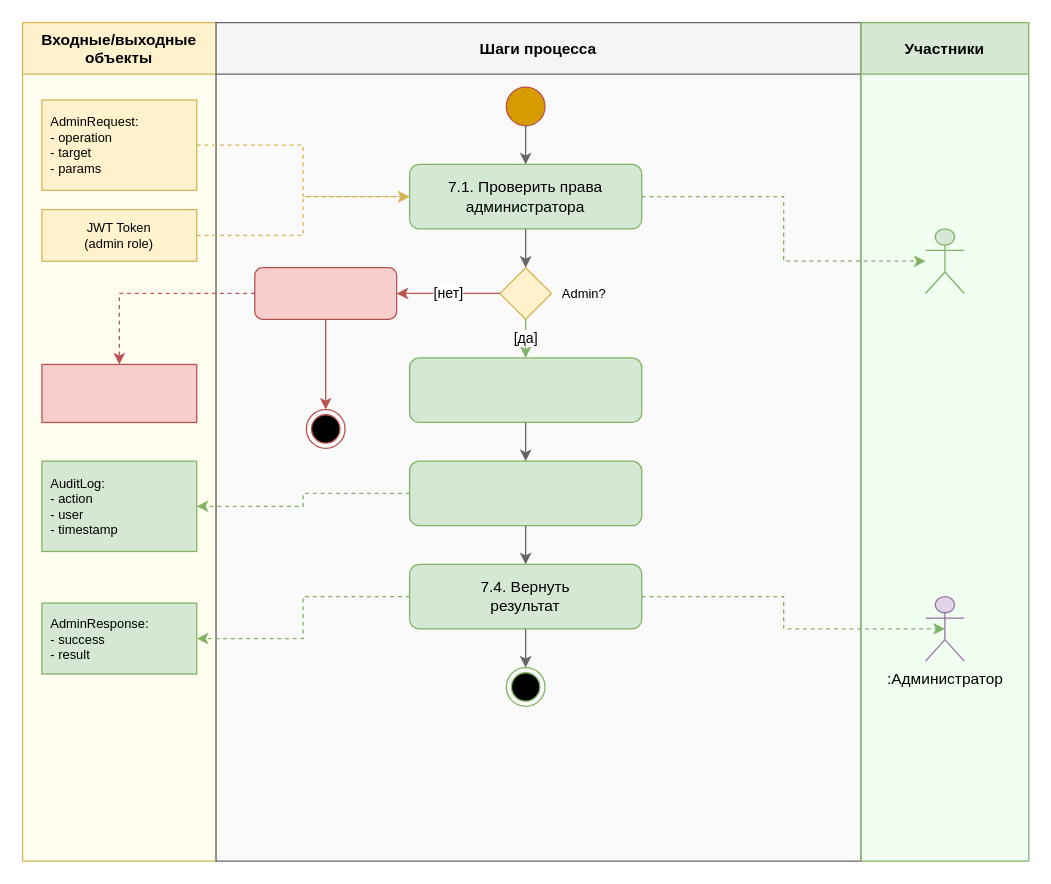
Image size: 1051x884. Some labels were removed from this diagram. The shapes that lost their labels are listed below. From the top down, each one's box as (x1, y1, x2, y2) in pixels, then its label:
(924, 228, 964, 293): :Система
(253, 266, 397, 319): Вернуть ошибку (403 Forbidden)
(41, 363, 197, 422): Error: - 403 Forbidden
(408, 357, 642, 422): 7.2. Выполнить админ операцию
(408, 460, 642, 526): 7.3. Записать в аудит лог
